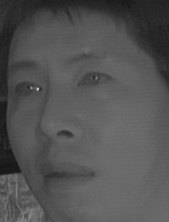eye: (77, 67, 115, 95), (10, 78, 45, 101)
mouth: (39, 158, 95, 195)
